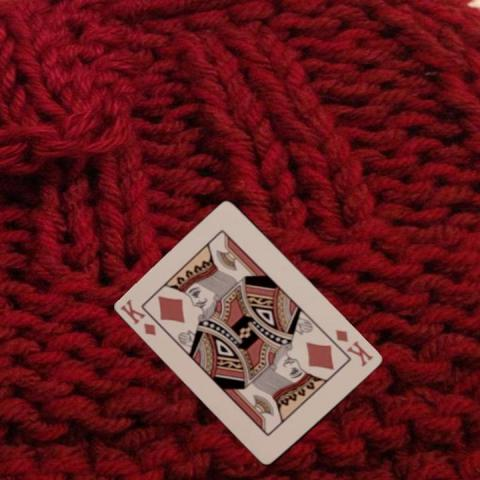Kd: (333, 325, 375, 368), (117, 296, 159, 338)
